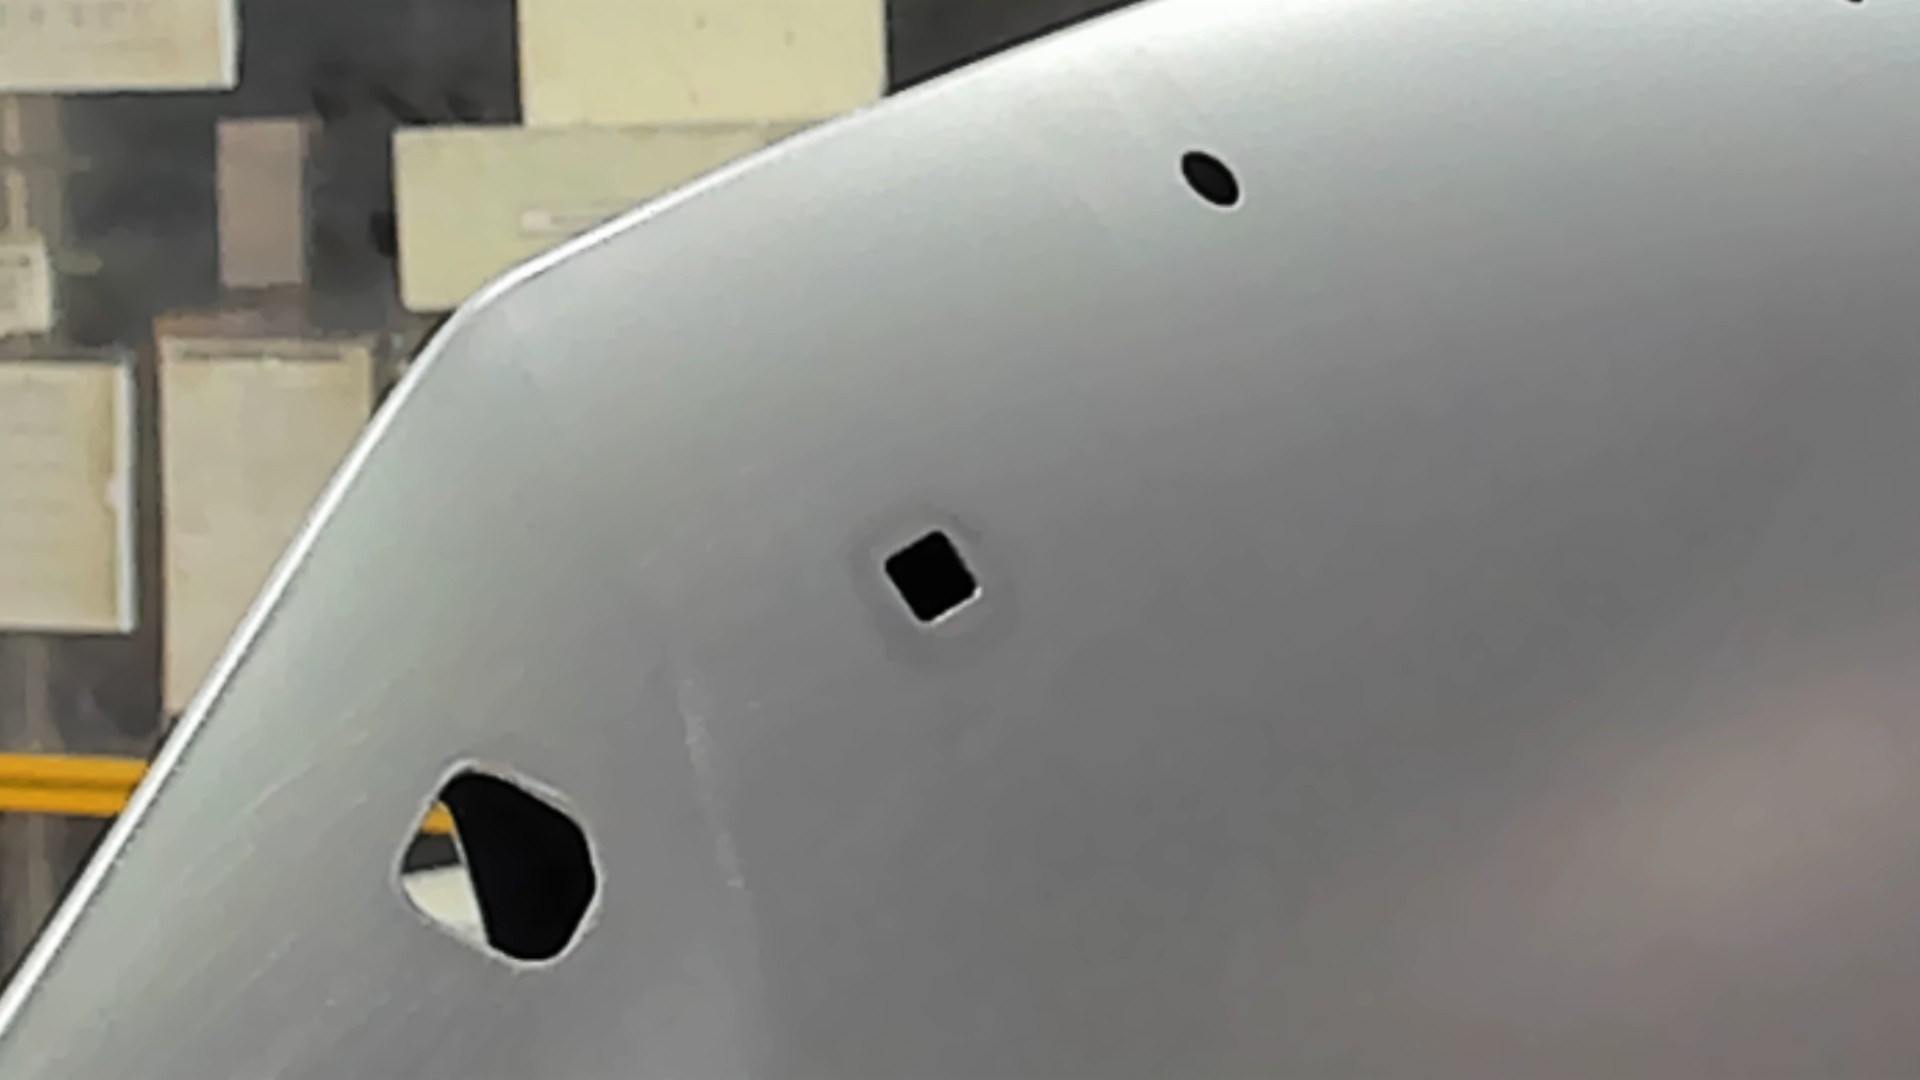chico: (1178, 142, 1246, 211)
grande: (386, 753, 607, 973)
mediano: (877, 527, 986, 628)
